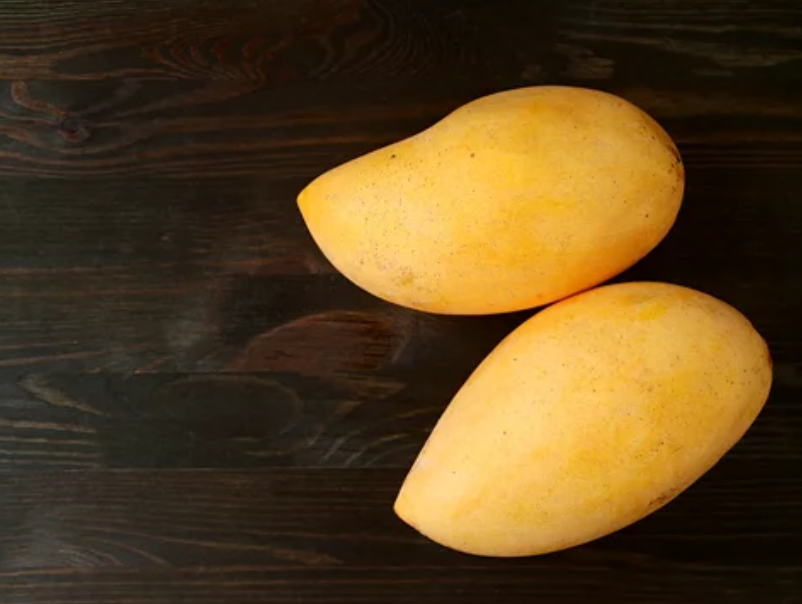mango: (387, 280, 776, 563), (296, 89, 694, 315)
